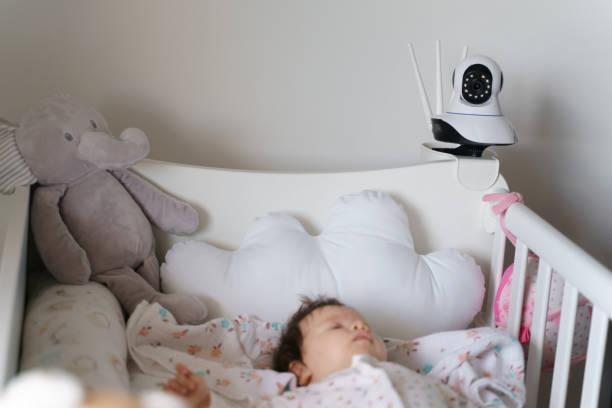camera: (389, 25, 533, 167)
